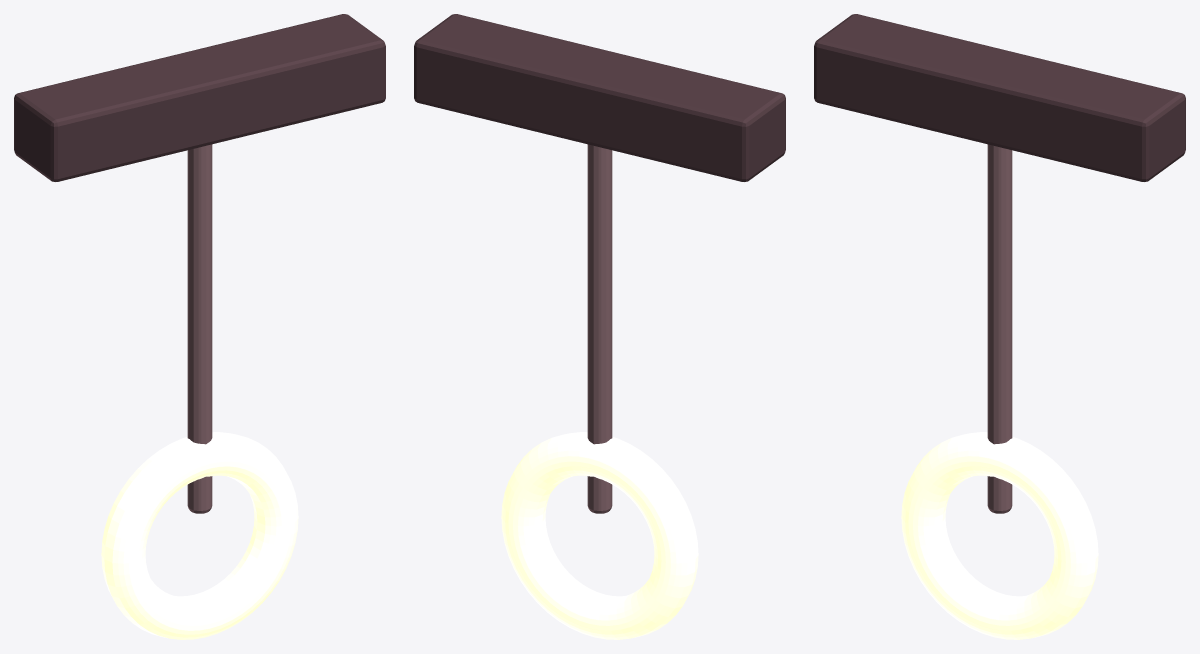
File: SM_Schlachthof_Hook.fbx
3 views of the same model, side by side, from view 1: azimuth 30°, elevation 25°; view 2: azimuth 150°, elevation 25°; view 3: azimuth 330°, elevation 25° (orthographic).
Parts seen in each view (by area): view 1: SM_Schlachthof_Hook; view 2: SM_Schlachthof_Hook; view 3: SM_Schlachthof_Hook.
Boxes of the visible parts, box(x1,y1,x2,y2) form: SM_Schlachthof_Hook: box(14, 14, 385, 639); SM_Schlachthof_Hook: box(414, 14, 785, 639); SM_Schlachthof_Hook: box(814, 14, 1185, 639).
Size of the model in its own units: 1.4 by 2.28 by 0.3.
